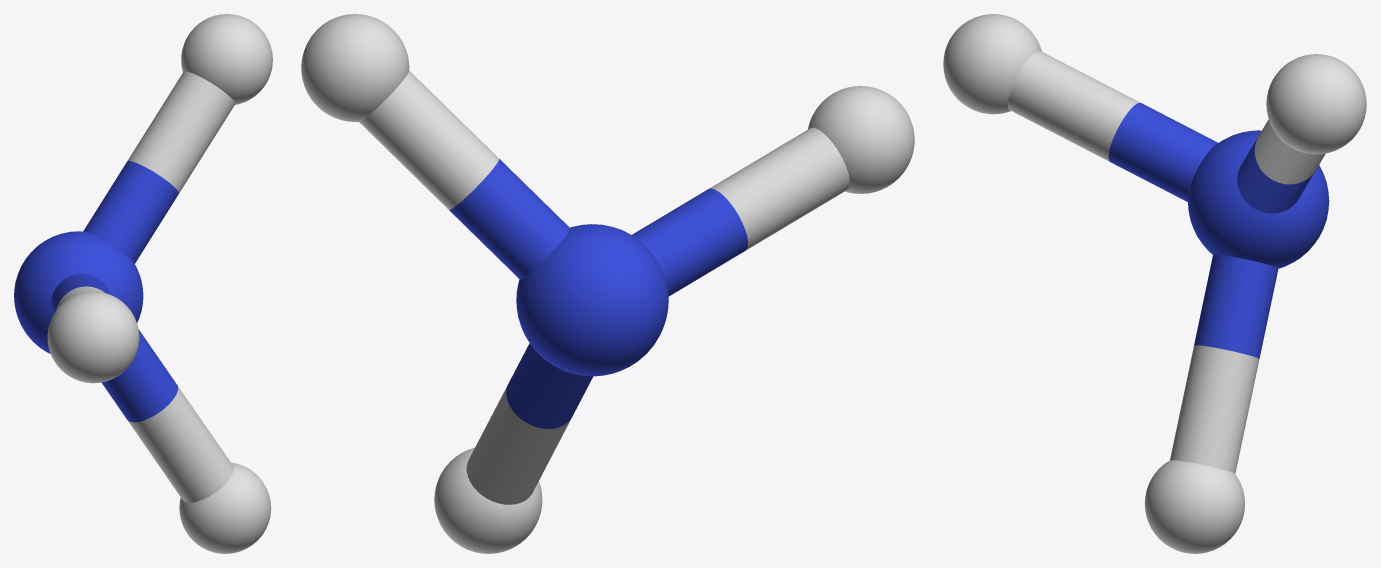
File: Ammonia.glb
The picture shows the model from 3 angles, left to right: view 1: azimuth 30°, elevation 25°; view 2: azimuth 150°, elevation 25°; view 3: azimuth 270°, elevation 25°; orthographic projection. The views are drawn at different scales.
Bounding box in the file's own units: 1.5 × 1.89 × 1.39.
